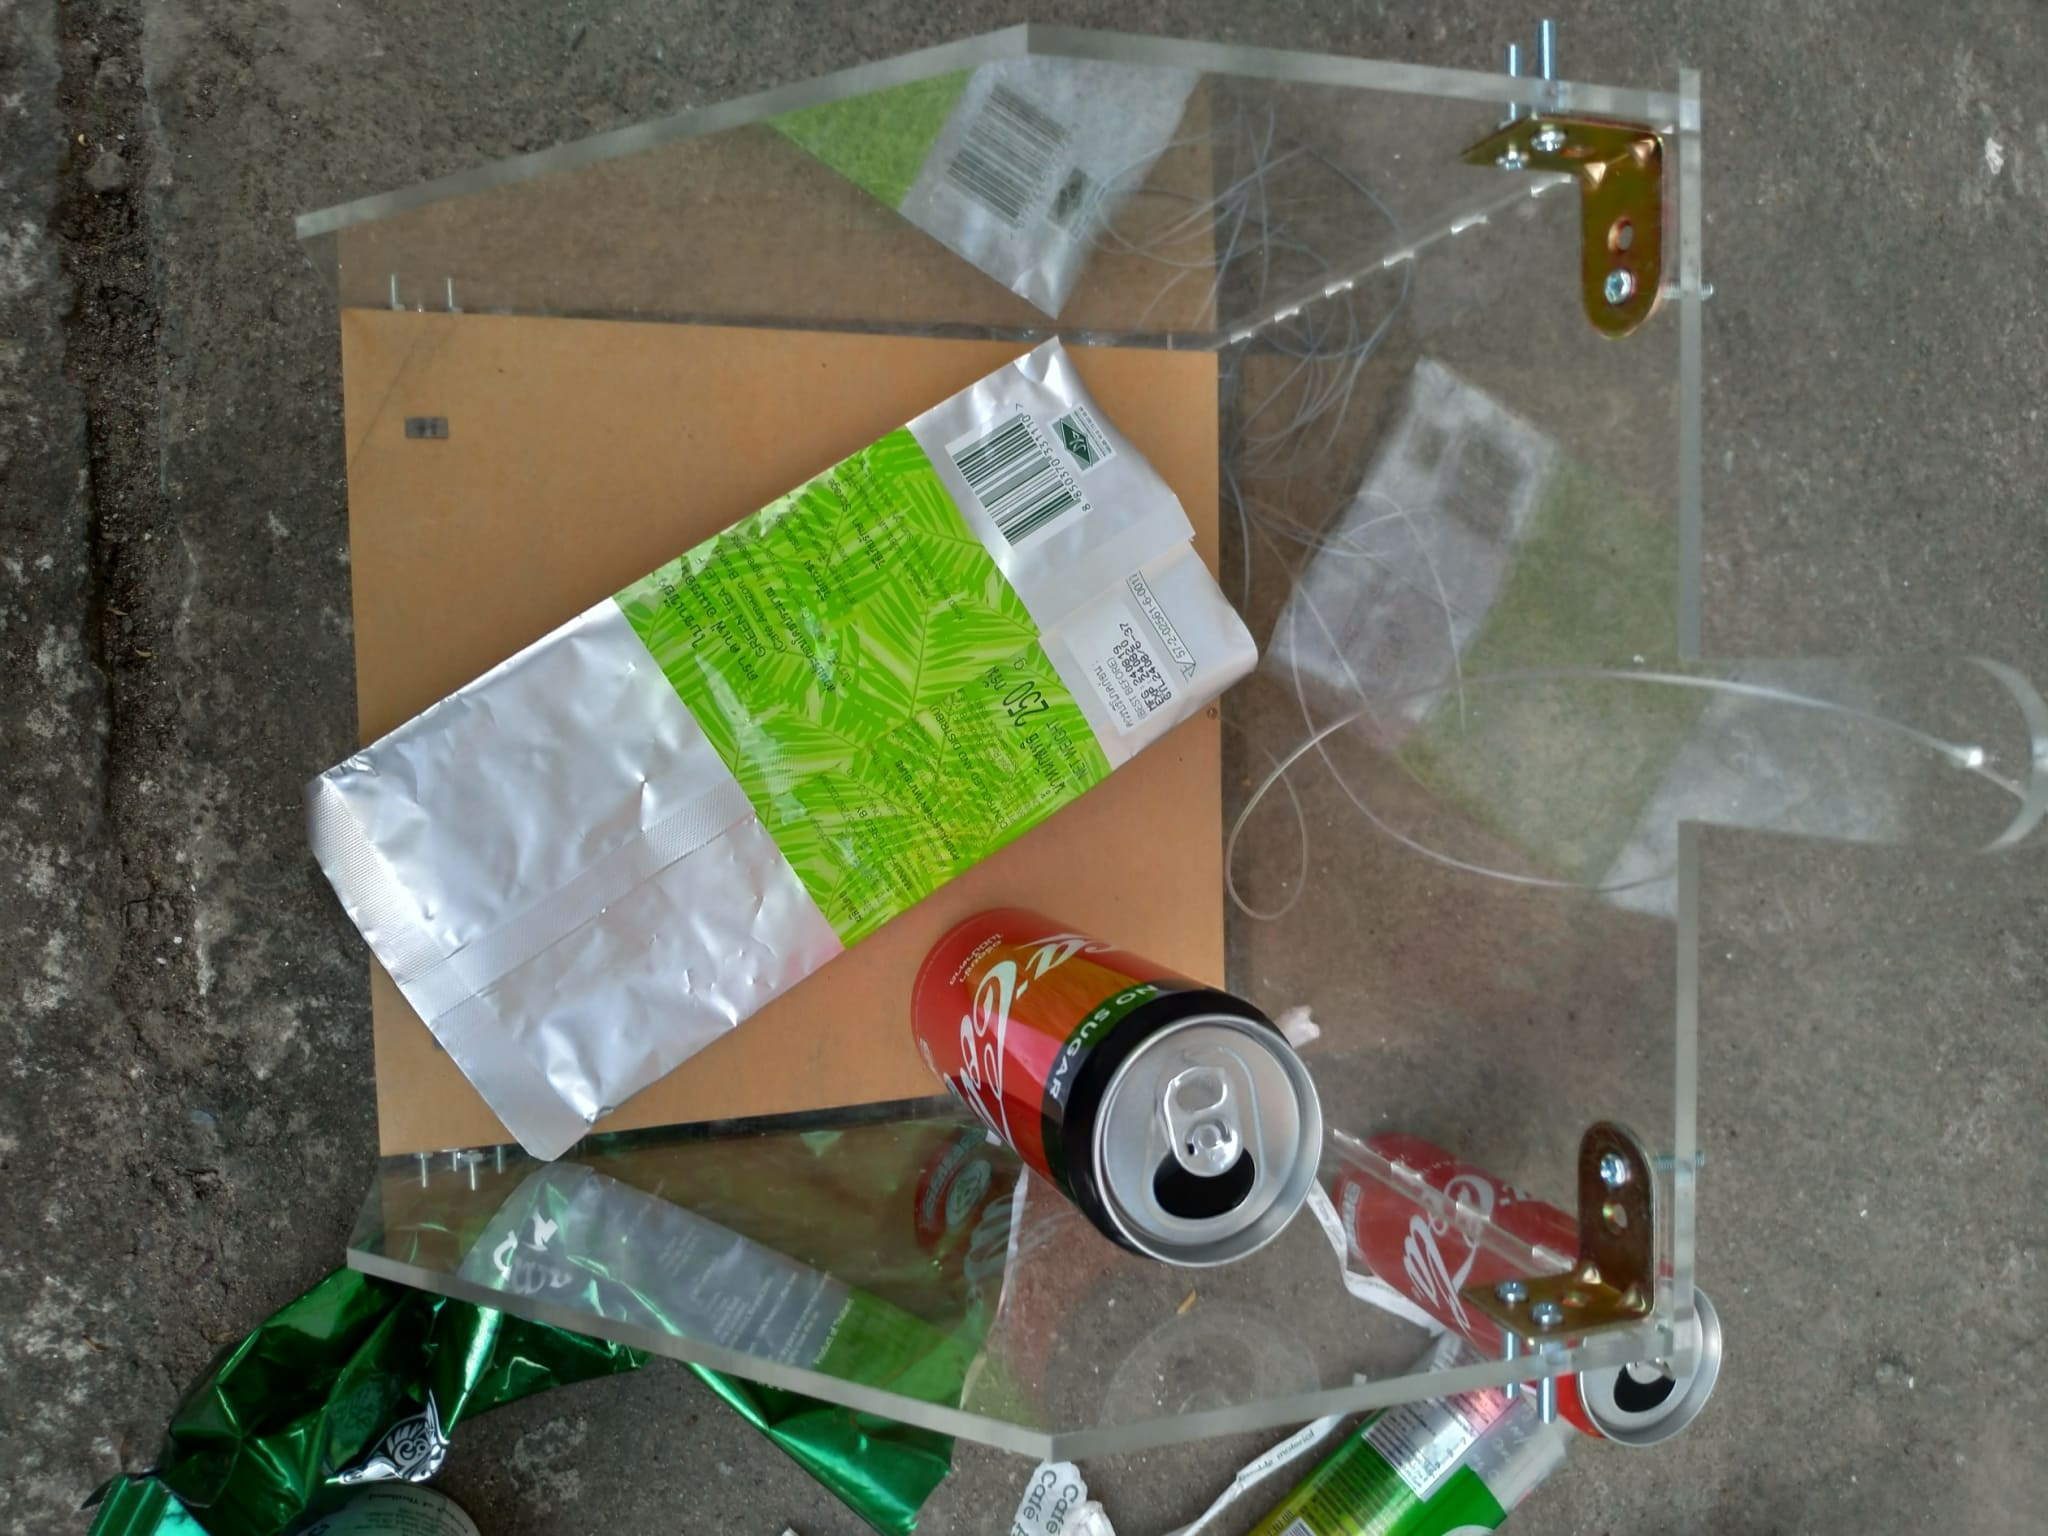AlCan: (911, 899, 1316, 1275), (1338, 1126, 1713, 1452), (1206, 1317, 1564, 1536)
Others: (305, 331, 1258, 900), (85, 1163, 1034, 1536)
